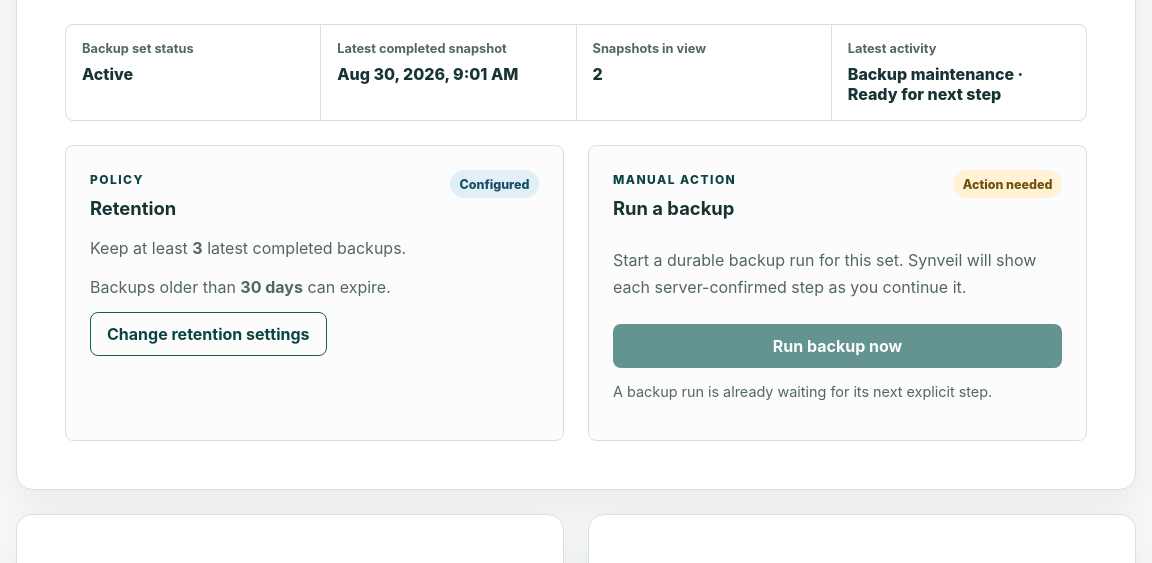
backup foundation page › validates and appends a new retention revision with a stable retry key
(page scrolled)
Click the button "Change retention settings" at point(208, 334), box [90,312,326,356]
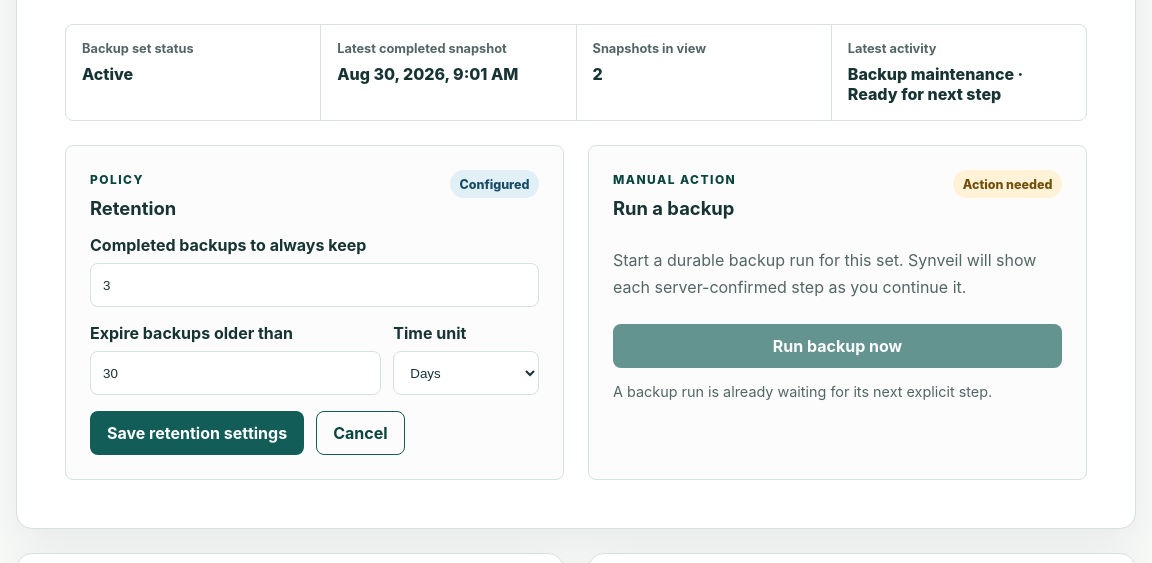
Replace the text in the number field labelled "Completed backups to always keep" with "0" at point(314, 285), box [90,263,539,307]
Click the button "Save retention settings" at point(197, 433), box [90,411,304,455]
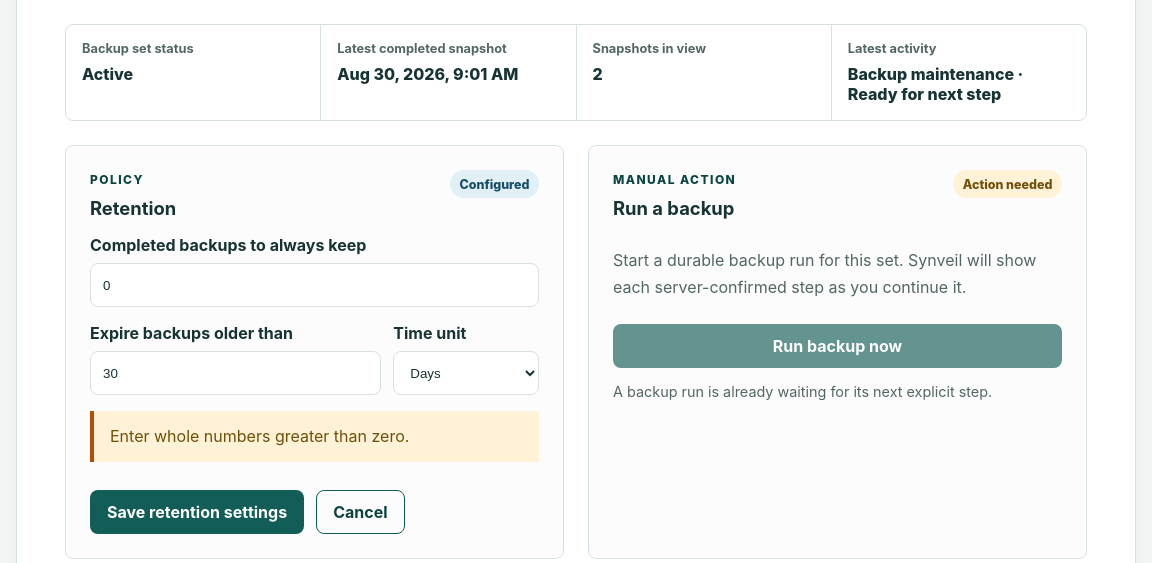
Now the message shows "greater than zero", box [110,426,409,446]
Replace the text in the number field labelled "Completed backups to always keep" with "5" at point(314, 285), box [90,263,539,307]
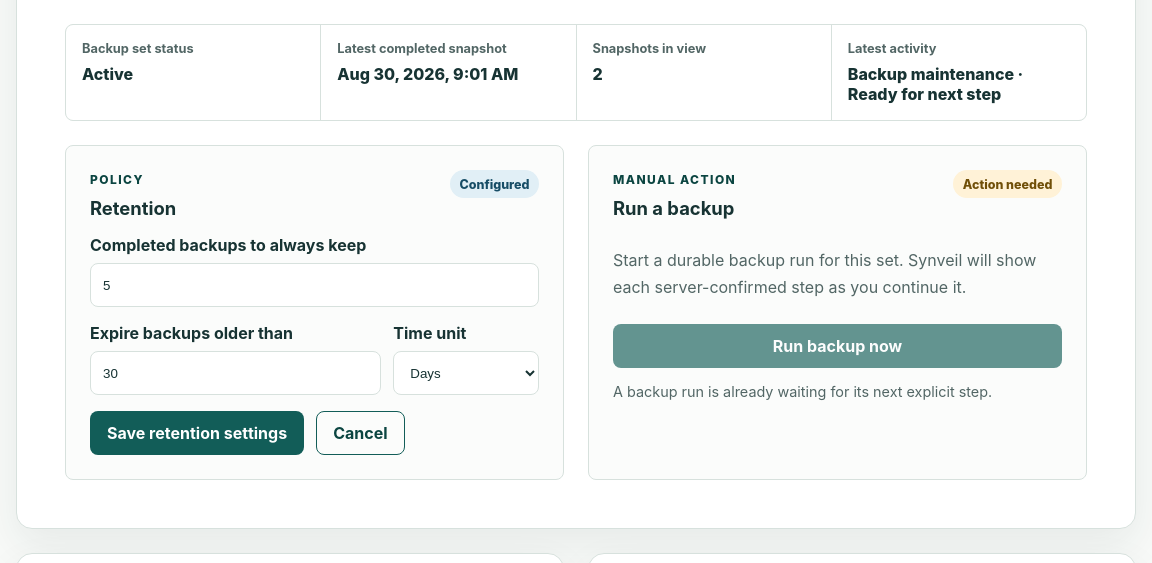
Replace the text in the number field labelled "Expire backups older than" with "2" at point(236, 373), box [90,351,381,395]
Select "Weeks" in the dropdown labelled "Time unit" at point(466, 373), box [393,351,539,395]
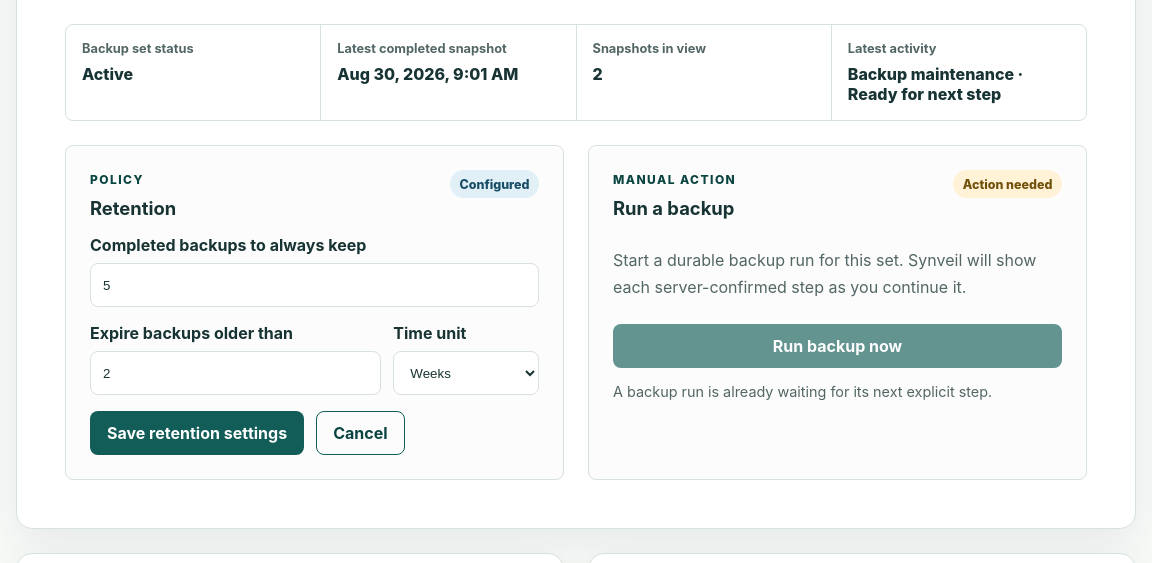
Click the button "Save retention settings" at point(197, 433), box [90,411,304,455]
(page scrolled)
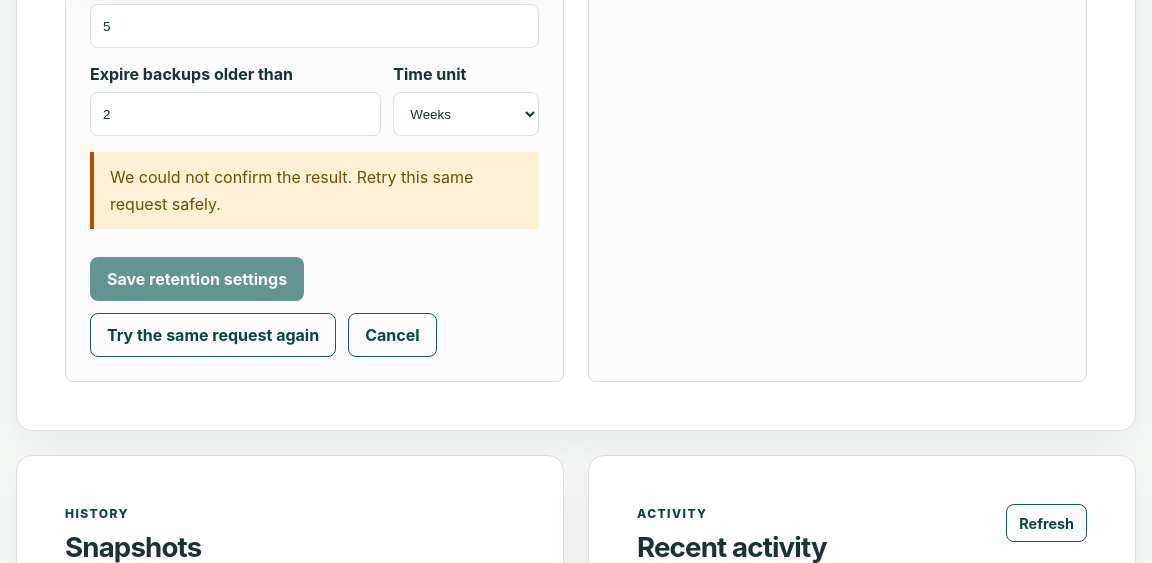
Click the button "Try the same request again" at point(213, 335), box [90,313,336,357]
(page scrolled)
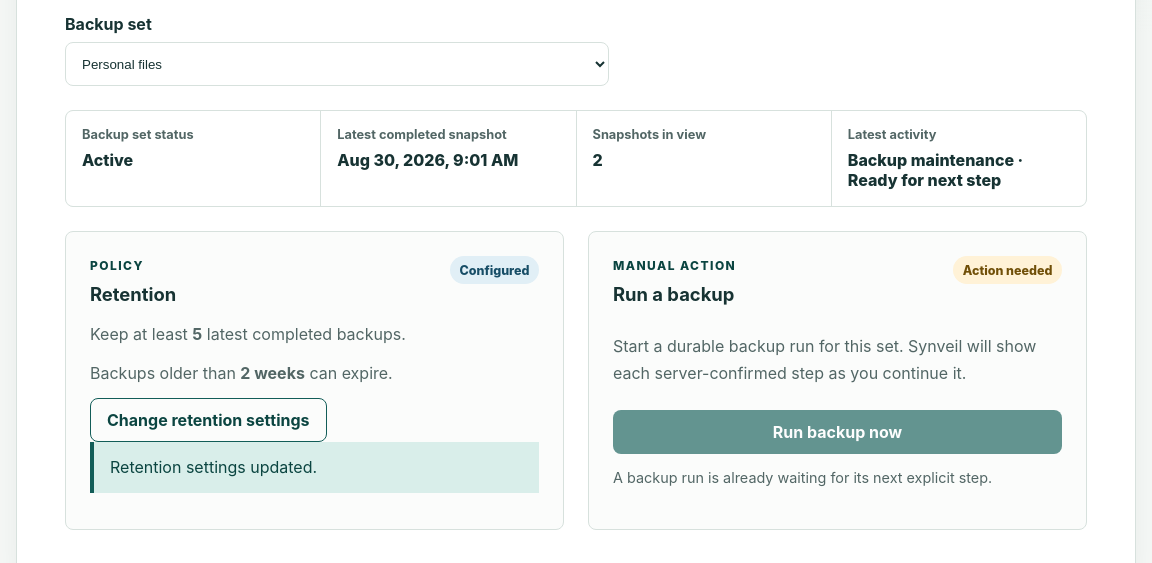
Now the message reads "Retention settings updated.", box [110,457,317,477]
Now the text "Keep at least 5 latest completed backups." is shown, box [90,324,406,344]
